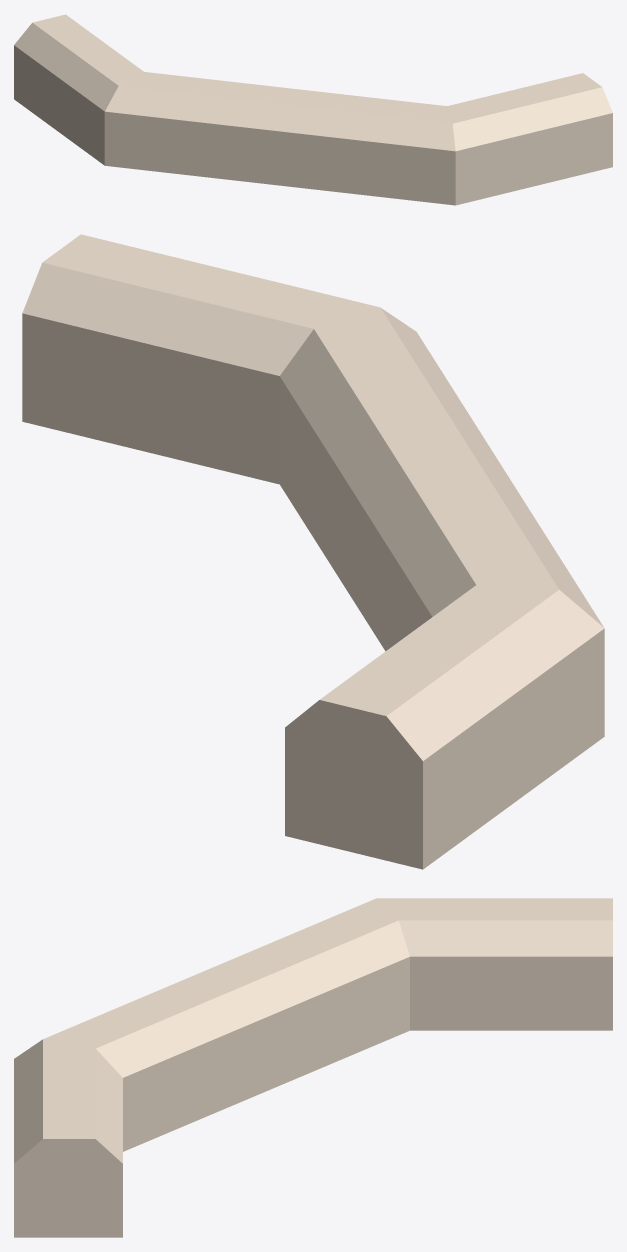
The model's file is temple_Wall_Curved_Small_Coping.glb.
3 views of the same model, one above another, from view 1: azimuth 30°, elevation 25°; view 2: azimuth 150°, elevation 25°; view 3: azimuth 270°, elevation 25° (orthographic). The views are drawn at different scales.
Visible parts, largest first — view 1: object1; view 2: object1; view 3: object1.
Boxes of the visible parts, bbox=[...] form: object1: bbox=[14, 14, 612, 205]; object1: bbox=[22, 234, 604, 869]; object1: bbox=[14, 898, 612, 1237].
Bounding box in the file's own units: 1.1 × 0.2 × 1.1.
